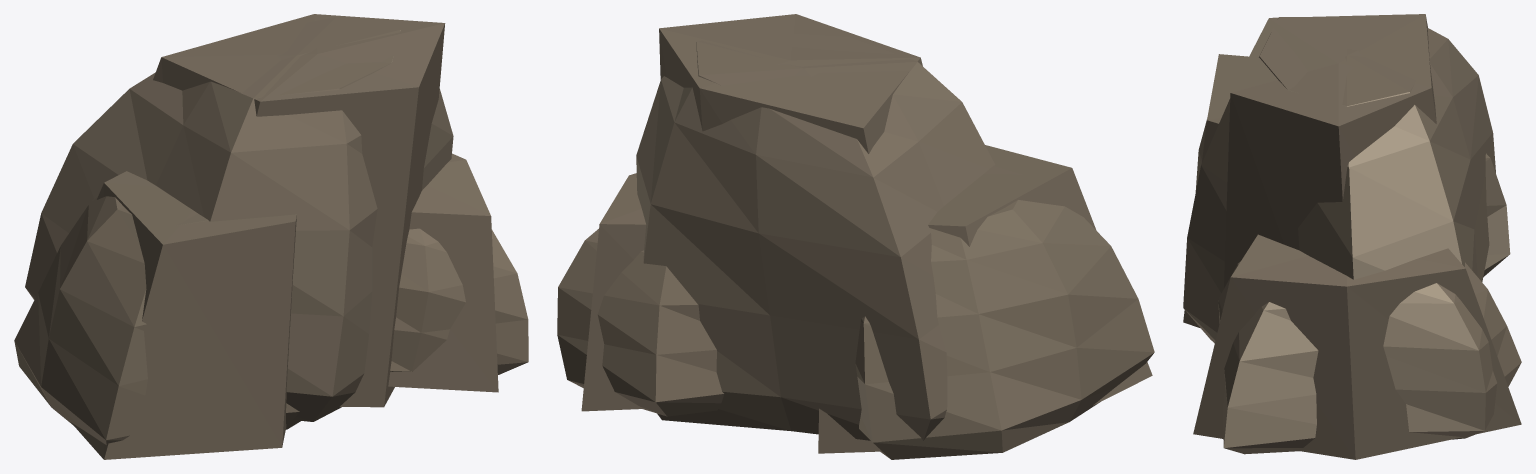
File: rock_harbor_fractured_a.glb
The picture shows the model from 3 angles, left to right: view 1: azimuth 30°, elevation 25°; view 2: azimuth 150°, elevation 25°; view 3: azimuth 270°, elevation 25°; orthographic projection. The views are drawn at different scales.
Visible parts, largest first — view 1: rock_harbor_fractured_a_LOD0_stone, rock_harbor_fractured_a_LOD1_stone; view 2: rock_harbor_fractured_a_LOD0_stone, rock_harbor_fractured_a_LOD1_stone; view 3: rock_harbor_fractured_a_LOD0_stone, rock_harbor_fractured_a_LOD1_stone.
Boxes of the visible parts, x1=… form: rock_harbor_fractured_a_LOD0_stone: x1=14, y1=17, x2=528, y2=445; rock_harbor_fractured_a_LOD1_stone: x1=71, y1=14, x2=498, y2=459; rock_harbor_fractured_a_LOD0_stone: x1=557, y1=31, x2=1154, y2=459; rock_harbor_fractured_a_LOD1_stone: x1=581, y1=14, x2=1152, y2=453; rock_harbor_fractured_a_LOD0_stone: x1=1183, y1=17, x2=1521, y2=454; rock_harbor_fractured_a_LOD1_stone: x1=1183, y1=14, x2=1521, y2=459.
Bounding box in the file's own units: 5.3 × 3.74 × 3.5.
